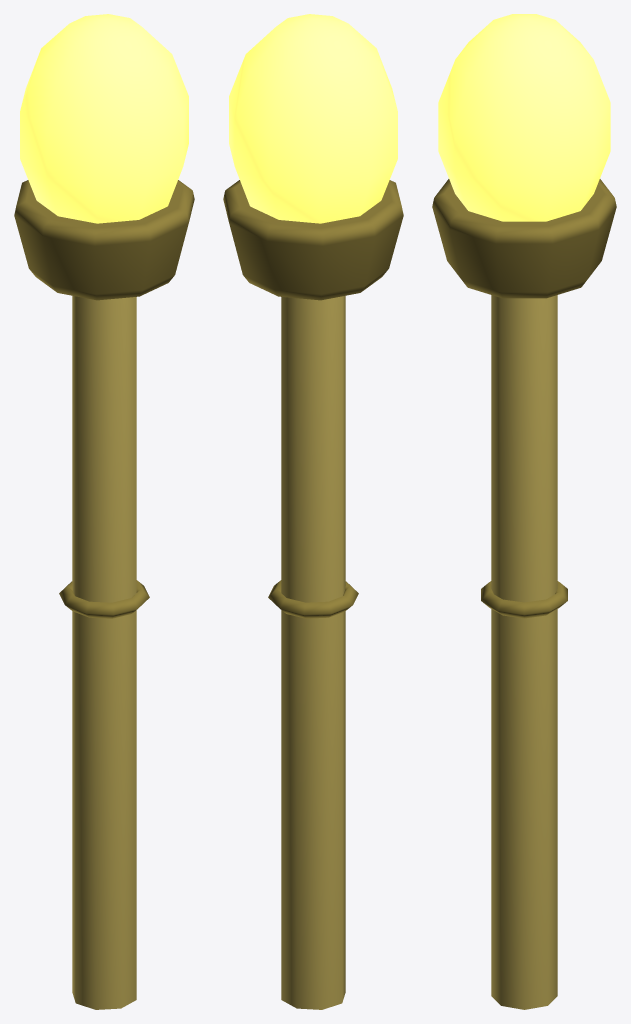
The model's file is jungle_trail_torch.glb.
3 views of the same model, side by side, from view 1: azimuth 30°, elevation 25°; view 2: azimuth 150°, elevation 25°; view 3: azimuth 270°, elevation 25° (orthographic).
Visible parts, largest first — view 1: TrailTorch; view 2: TrailTorch; view 3: TrailTorch.
Boxes of the visible parts, <box> form: TrailTorch: <box>14,14,194,1009</box>; TrailTorch: <box>223,14,403,1009</box>; TrailTorch: <box>432,14,616,1009</box>.
Bounding box in the file's own units: 0.238 × 1.46 × 0.2503.
